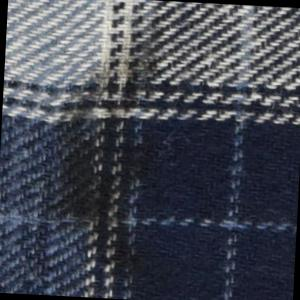Stain: (41, 48, 168, 276)
